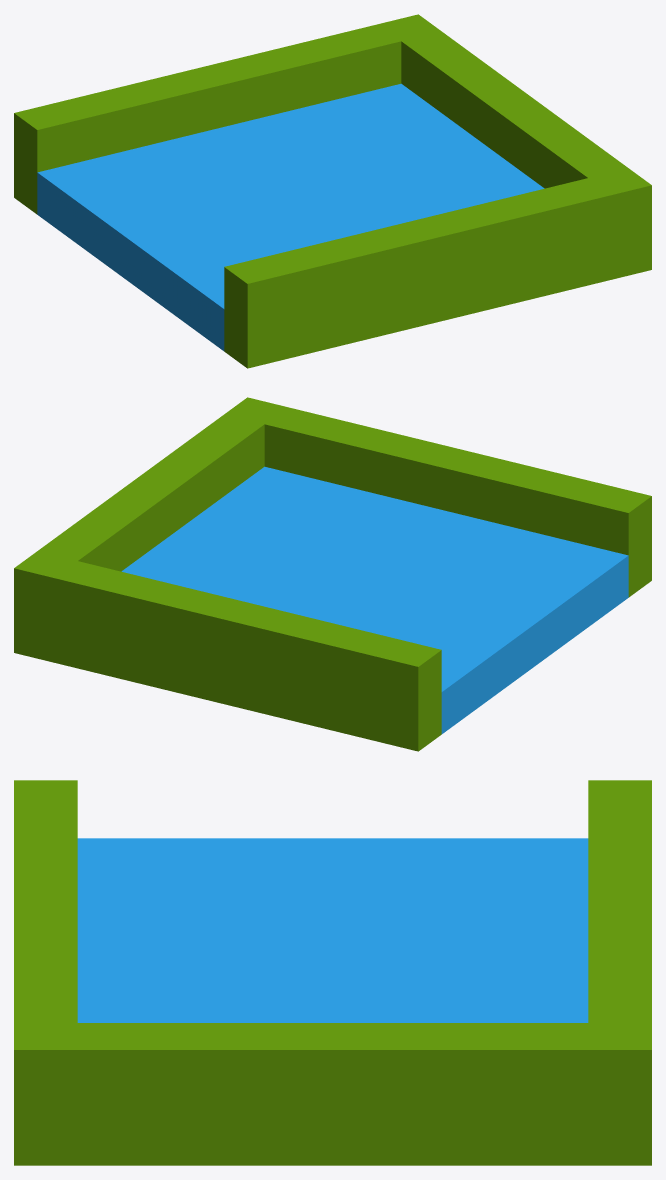
The model's file is TileWater_09.fbx.
3 views of the same model, one above another, from view 1: azimuth 30°, elevation 25°; view 2: azimuth 150°, elevation 25°; view 3: azimuth 270°, elevation 25° (orthographic). The views are drawn at different scales.
Parts seen in each view (by area): view 1: TileWater_09; view 2: TileWater_09; view 3: TileWater_09.
Part boxes in pixels (x1,y1,x2,y2): TileWater_09: [14, 14, 651, 368]; TileWater_09: [14, 397, 651, 751]; TileWater_09: [14, 780, 651, 1165].
Size of the model in its own units: 500 by 100 by 500.
